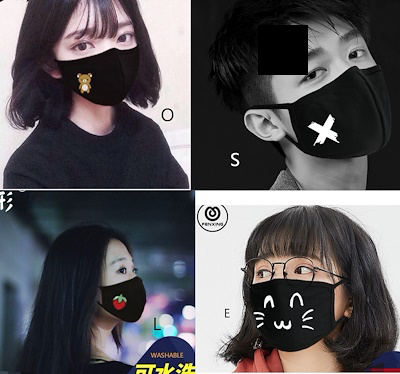with_mask: (272, 26, 386, 158), (246, 251, 349, 354), (54, 18, 141, 108), (100, 254, 149, 325)
